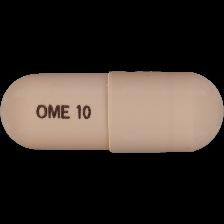0781-2785: (0, 0, 224, 224)
